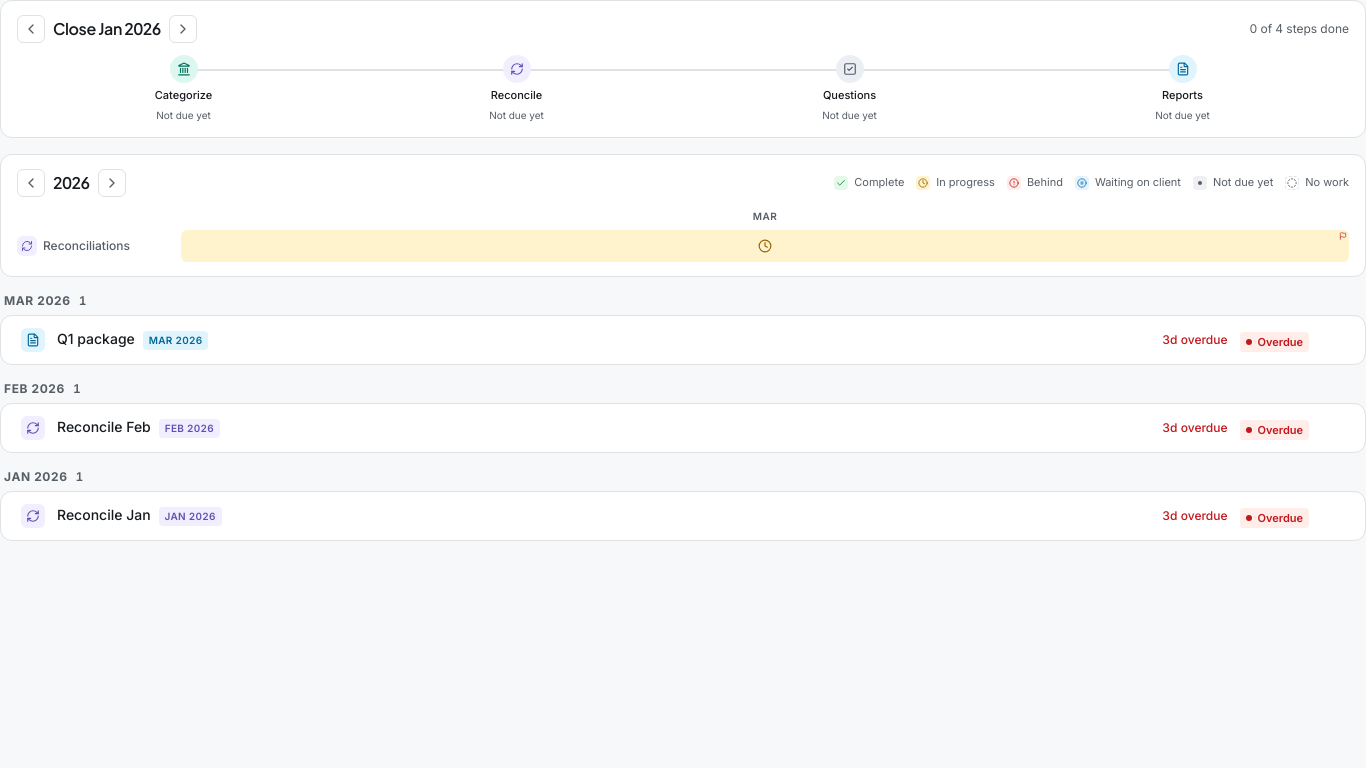
Test: ClientWorkTab › drills a quarterly column into all of its covered months
What coordinates should you click on to do the following:
click the button named "Reconciliations, Mar 2026"
I would click on:
 (765, 246)
Its box is [181,230,1349,262].
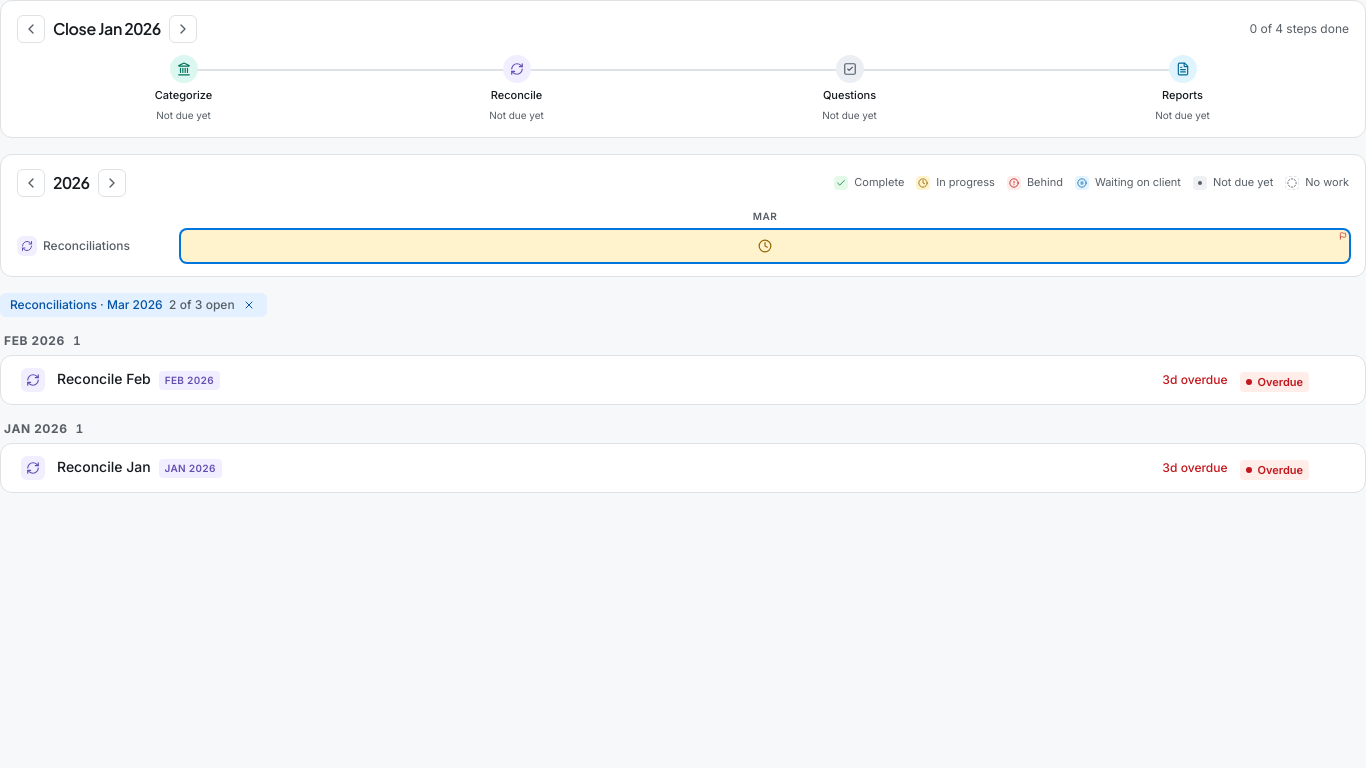
expect the text "Reconcile Jan" is shown: met, box [57,457,151,477]
expect the number of elements with test id "client-work-row" is 2: met, box [21,368,1309,392]; [21,456,1309,480]
expect the text "Q1 package" is gone: met
